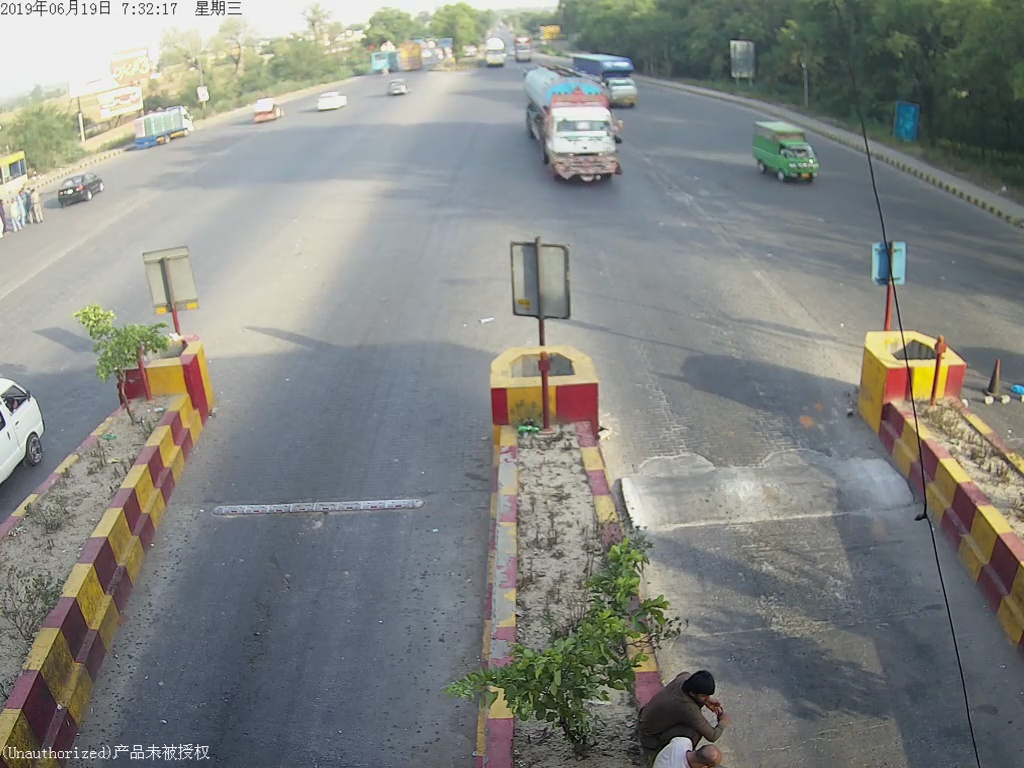Cat-5: (519, 73, 629, 190)
